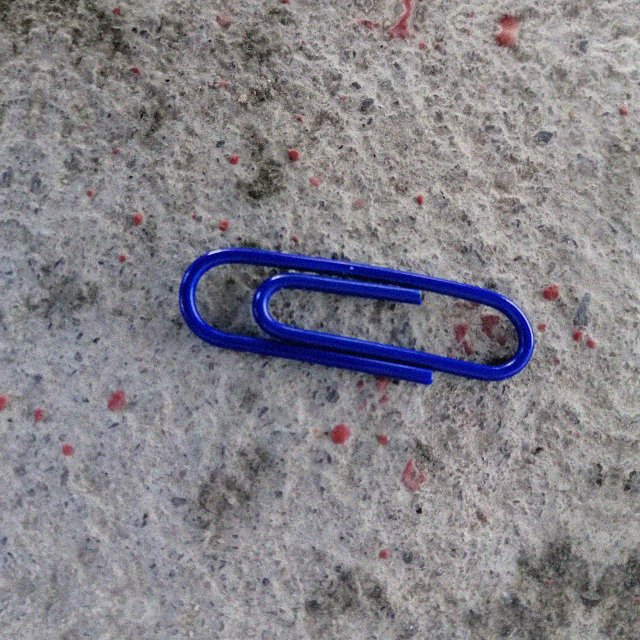pin: (178, 233, 537, 400)
